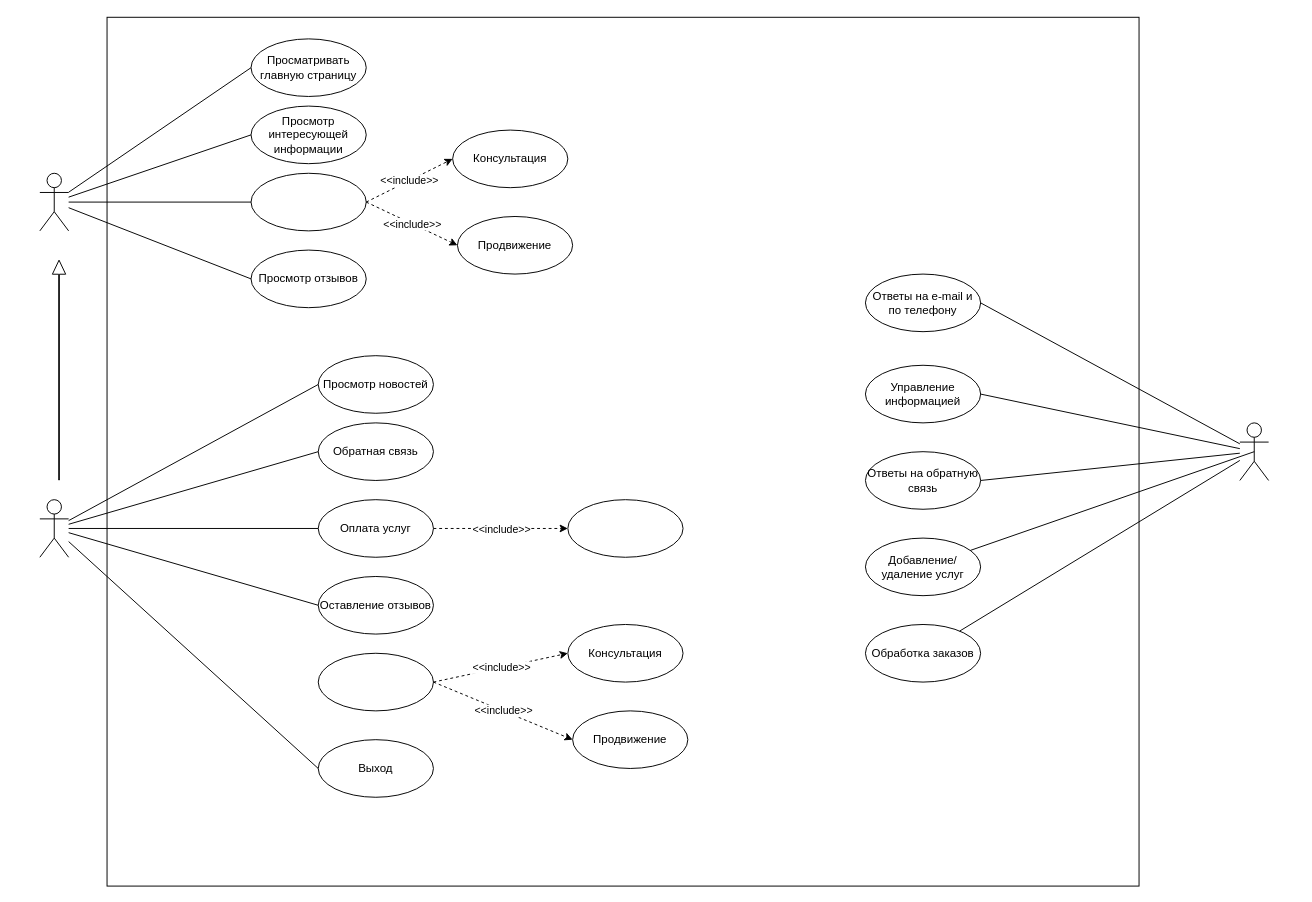
Image size: 1312x902. Some labels were removed from this diagram. Here are the shapes that lost their labels. From the top down, the centre of each, then its label:
point (54, 201): Гость
point (308, 201): Просмотр раздела "Услуги"
point (1254, 451): Администратор
point (54, 528): Пользователь
point (625, 528): Оплата выбранной услуги
point (375, 681): Просматривать раздел "Услуги"
